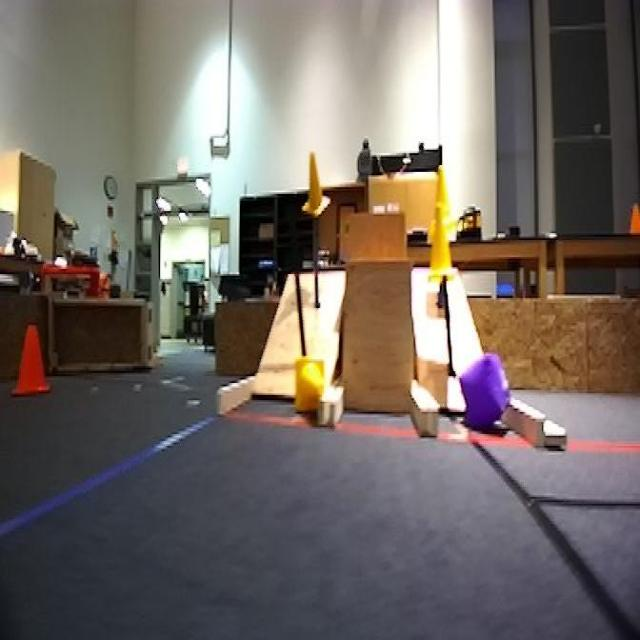frc_cone: (425, 208, 457, 282), (300, 150, 330, 220), (294, 356, 329, 410), (429, 167, 455, 224)
frc_cube: (458, 352, 509, 431)
